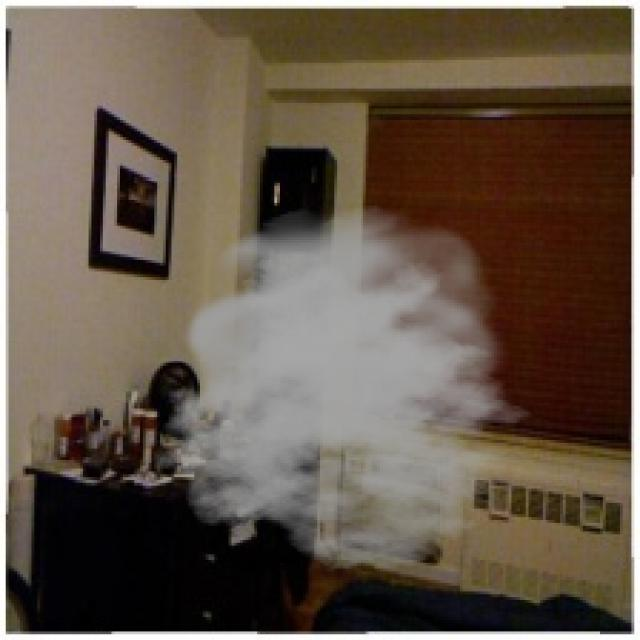smoke: (152, 206, 552, 571)
